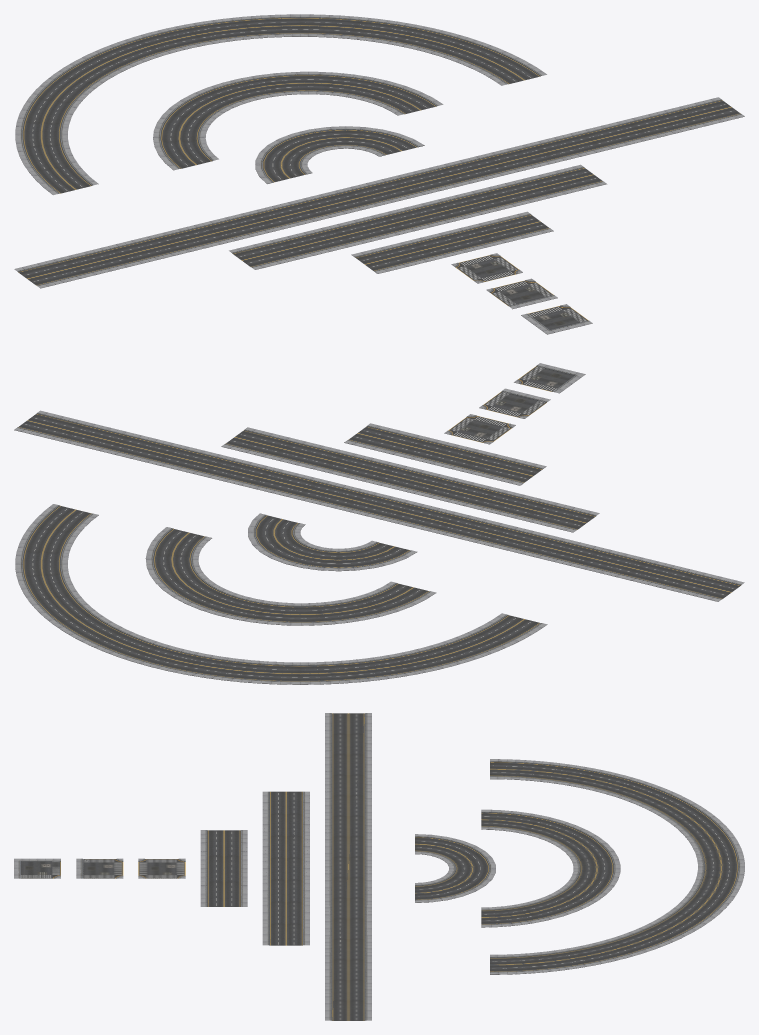
Rendered from Modular_Roads_Pack.obj.
3 renders of one model, top to bottom at view 1: azimuth 30°, elevation 25°; view 2: azimuth 150°, elevation 25°; view 3: azimuth 270°, elevation 25°, orthographic. The views are drawn at different scales.
Visible parts, largest first — view 1: Road_4X_Straight, Road_4X_HalfCircle, Road_2X_Straight, Road_2X_HalfCircle, Road_1X_Straight, Road_1X_HalfCircle, Road_X_Intersection, Road_T_Intersection, Road_L_Intersection; view 2: Road_4X_Straight, Road_4X_HalfCircle, Road_2X_Straight, Road_2X_HalfCircle, Road_1X_Straight, Road_1X_HalfCircle, Road_L_Intersection, Road_T_Intersection, Road_X_Intersection; view 3: Road_4X_HalfCircle, Road_4X_Straight, Road_2X_HalfCircle, Road_2X_Straight, Road_1X_HalfCircle, Road_1X_Straight, Road_L_Intersection, Road_X_Intersection, Road_T_Intersection.
Part boxes in pixels (x1=…): Road_4X_Straight: x1=14, y1=97, x2=744, y2=288; Road_4X_HalfCircle: x1=15, y1=14, x2=546, y2=194; Road_2X_Straight: x1=229, y1=164, x2=606, y2=269; Road_2X_HalfCircle: x1=153, y1=71, x2=443, y2=170; Road_1X_Straight: x1=351, y1=211, x2=553, y2=273; Road_1X_HalfCircle: x1=255, y1=126, x2=424, y2=183; Road_X_Intersection: x1=451, y1=253, x2=522, y2=283; Road_T_Intersection: x1=486, y1=278, x2=557, y2=309; Road_L_Intersection: x1=521, y1=304, x2=592, y2=334; Road_4X_Straight: x1=14, y1=410, x2=744, y2=601; Road_4X_HalfCircle: x1=15, y1=504, x2=547, y2=684; Road_2X_Straight: x1=221, y1=427, x2=599, y2=532; Road_2X_HalfCircle: x1=145, y1=527, x2=436, y2=625; Road_1X_Straight: x1=344, y1=423, x2=546, y2=485; Road_1X_HalfCircle: x1=248, y1=513, x2=417, y2=571; Road_L_Intersection: x1=514, y1=363, x2=585, y2=393; Road_T_Intersection: x1=479, y1=388, x2=550, y2=418; Road_X_Intersection: x1=444, y1=414, x2=515, y2=444; Road_4X_HalfCircle: x1=490, y1=759, x2=744, y2=974; Road_4X_Straight: x1=325, y1=713, x2=371, y2=1020; Road_2X_HalfCircle: x1=481, y1=809, x2=620, y2=927; Road_2X_Straight: x1=262, y1=791, x2=309, y2=945; Road_1X_HalfCircle: x1=415, y1=834, x2=495, y2=902; Road_1X_Straight: x1=200, y1=830, x2=247, y2=906; Road_L_Intersection: x1=14, y1=858, x2=60, y2=878; Road_X_Intersection: x1=138, y1=858, x2=185, y2=878; Road_T_Intersection: x1=76, y1=858, x2=123, y2=878.
Bounding box in the file's own units: 58522 × 30.67 × 58779.
